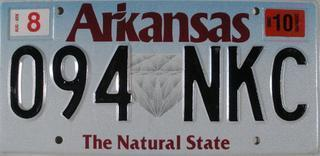placa de veiculo: (4, 1, 314, 156)
